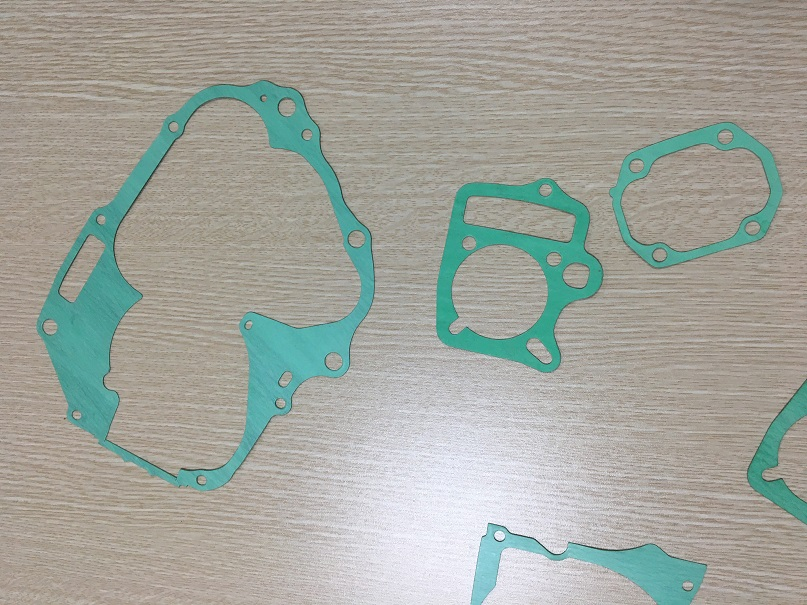type2: (603, 120, 788, 271)
type3: (21, 75, 384, 501)
type4: (432, 170, 613, 375)
